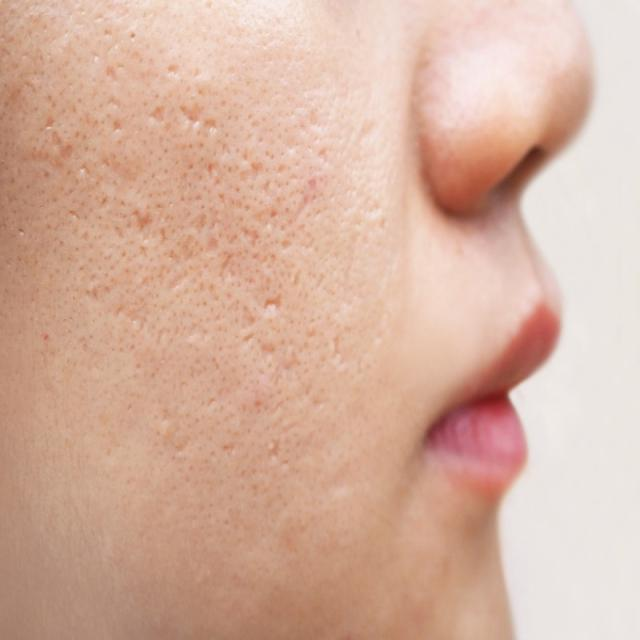oily: (12, 2, 562, 640)
pores: (31, 43, 312, 390)
